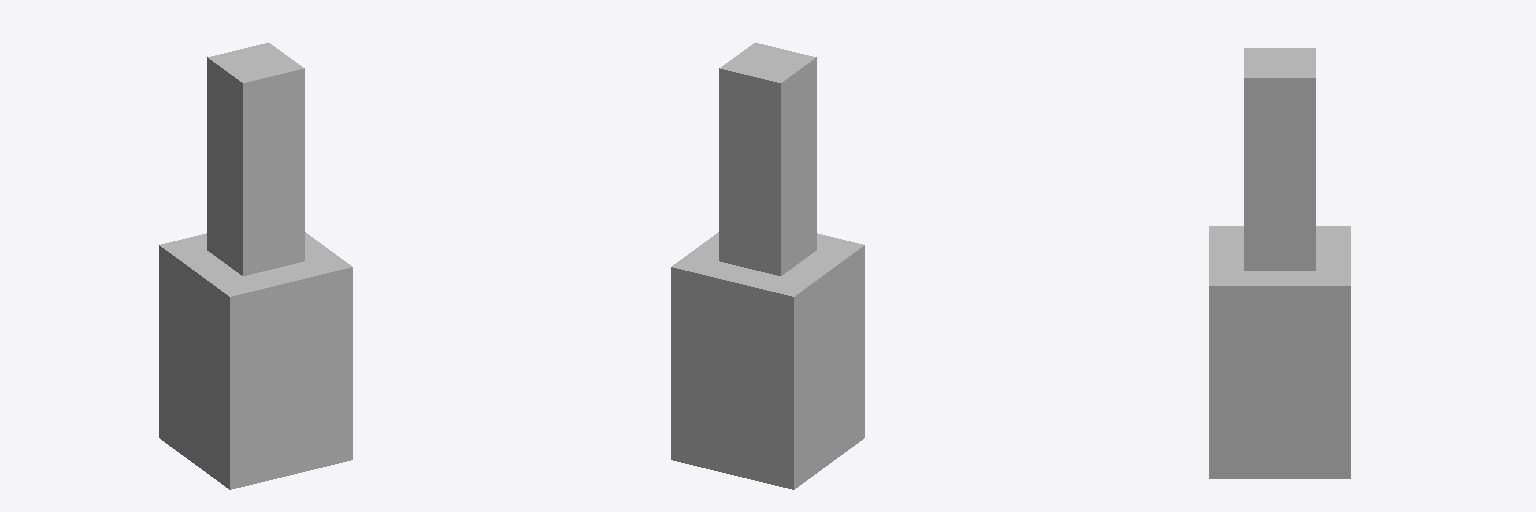
File: skeleton_armored_rightleg.obj
3 renders of one model, left to right at view 1: azimuth 30°, elevation 25°; view 2: azimuth 150°, elevation 25°; view 3: azimuth 270°, elevation 25°, orthographic.
Parts seen in each view (by area): view 1: Cube; view 2: Cube; view 3: Cube.
Boxes of the visible parts, x1,y1,x2,y2 form: Cube: [159, 43, 352, 489]; Cube: [671, 43, 864, 489]; Cube: [1209, 48, 1350, 478].
Bounding box in the file's own units: 0.25 × 0.75 × 0.25.